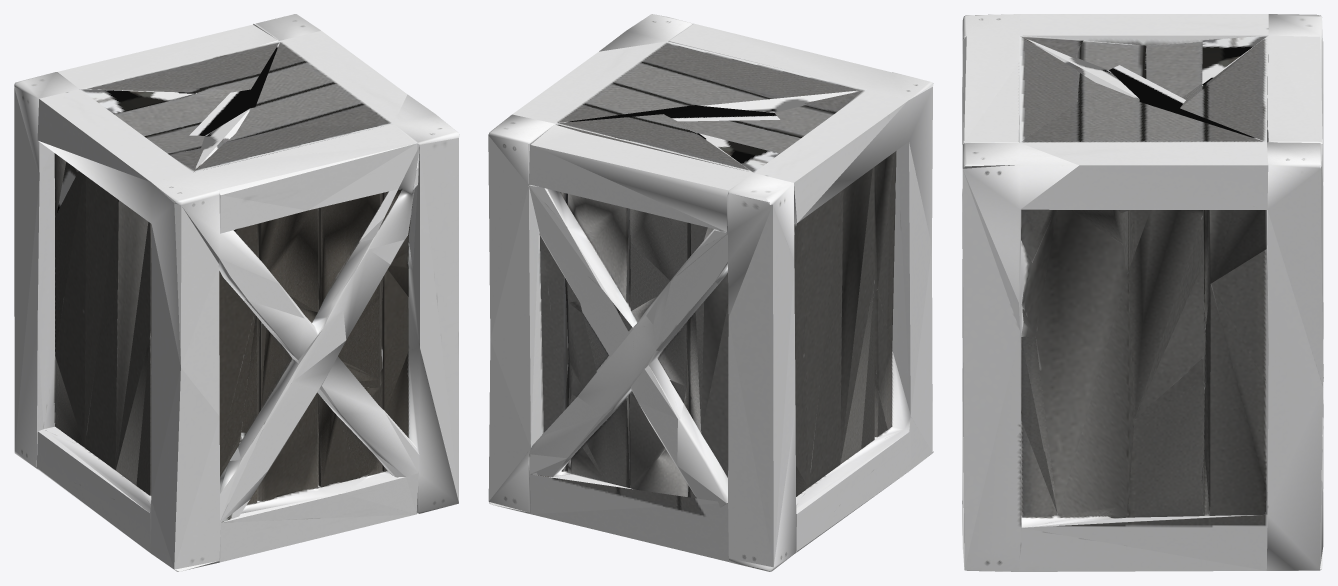
The model's file is Caisse2.fbx.
3 renders of one model, left to right at view 1: azimuth 30°, elevation 25°; view 2: azimuth 150°, elevation 25°; view 3: azimuth 270°, elevation 25°, orthographic. The views are drawn at different scales.
Visible parts, largest first — view 1: output_unwrapped; view 2: output_unwrapped; view 3: output_unwrapped.
Boxes of the visible parts, x1,y1,x2,y2 form: output_unwrapped: (14,14,459,571); output_unwrapped: (488,14,933,571); output_unwrapped: (962,14,1323,571).
Bounding box in the file's own units: 152 × 190 × 153.
Materials: 1 (1 with a texture image).
